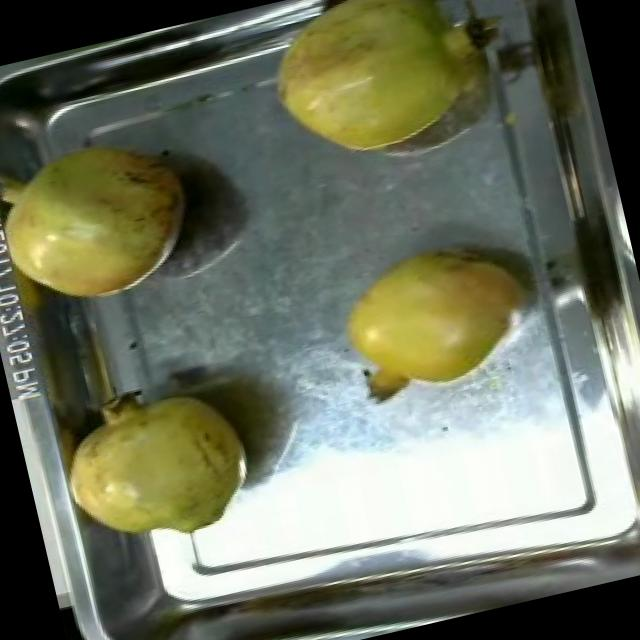fruit: (40, 363, 277, 575), (0, 115, 214, 329), (241, 0, 486, 185), (316, 224, 546, 416)
